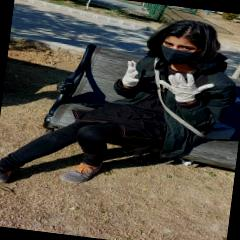gloved: (156, 69, 214, 104), (121, 60, 141, 88)
